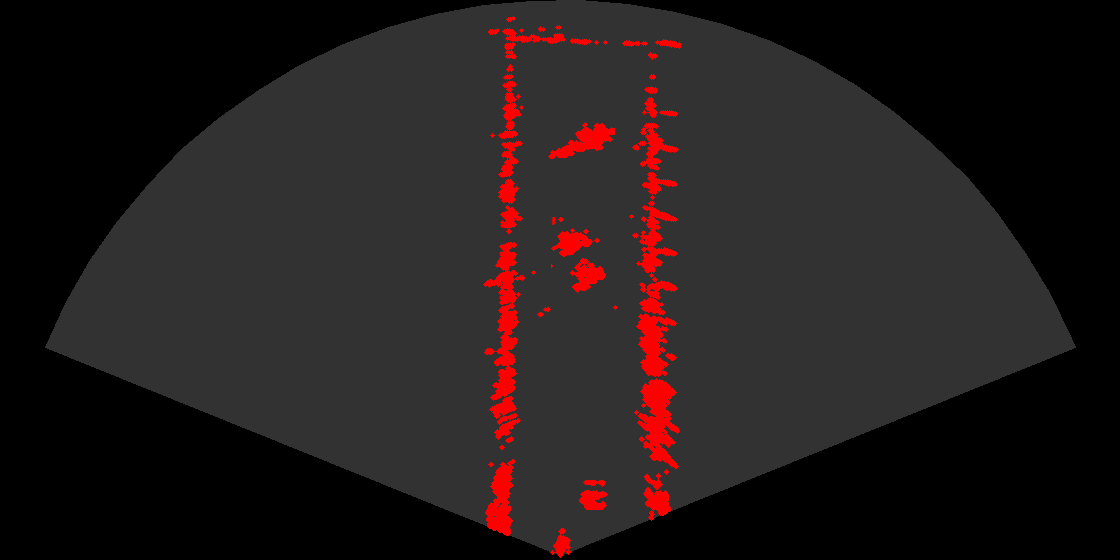ball: (559, 472, 619, 513)
cage: (551, 217, 614, 301)
frogman: (547, 116, 615, 163)
